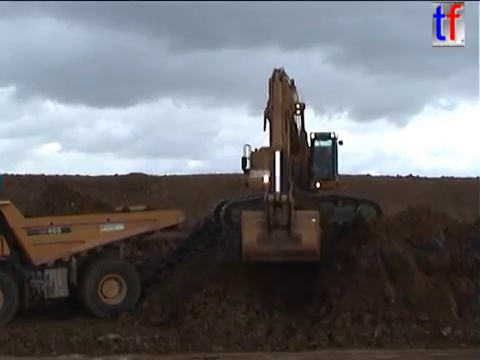excavator: (208, 64, 386, 265)
truck: (1, 195, 188, 328)
